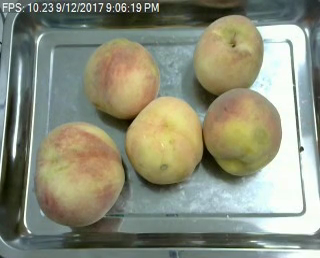Peach: (34, 121, 125, 228), (124, 95, 204, 185), (202, 86, 282, 174), (194, 13, 267, 96), (85, 36, 158, 118)
